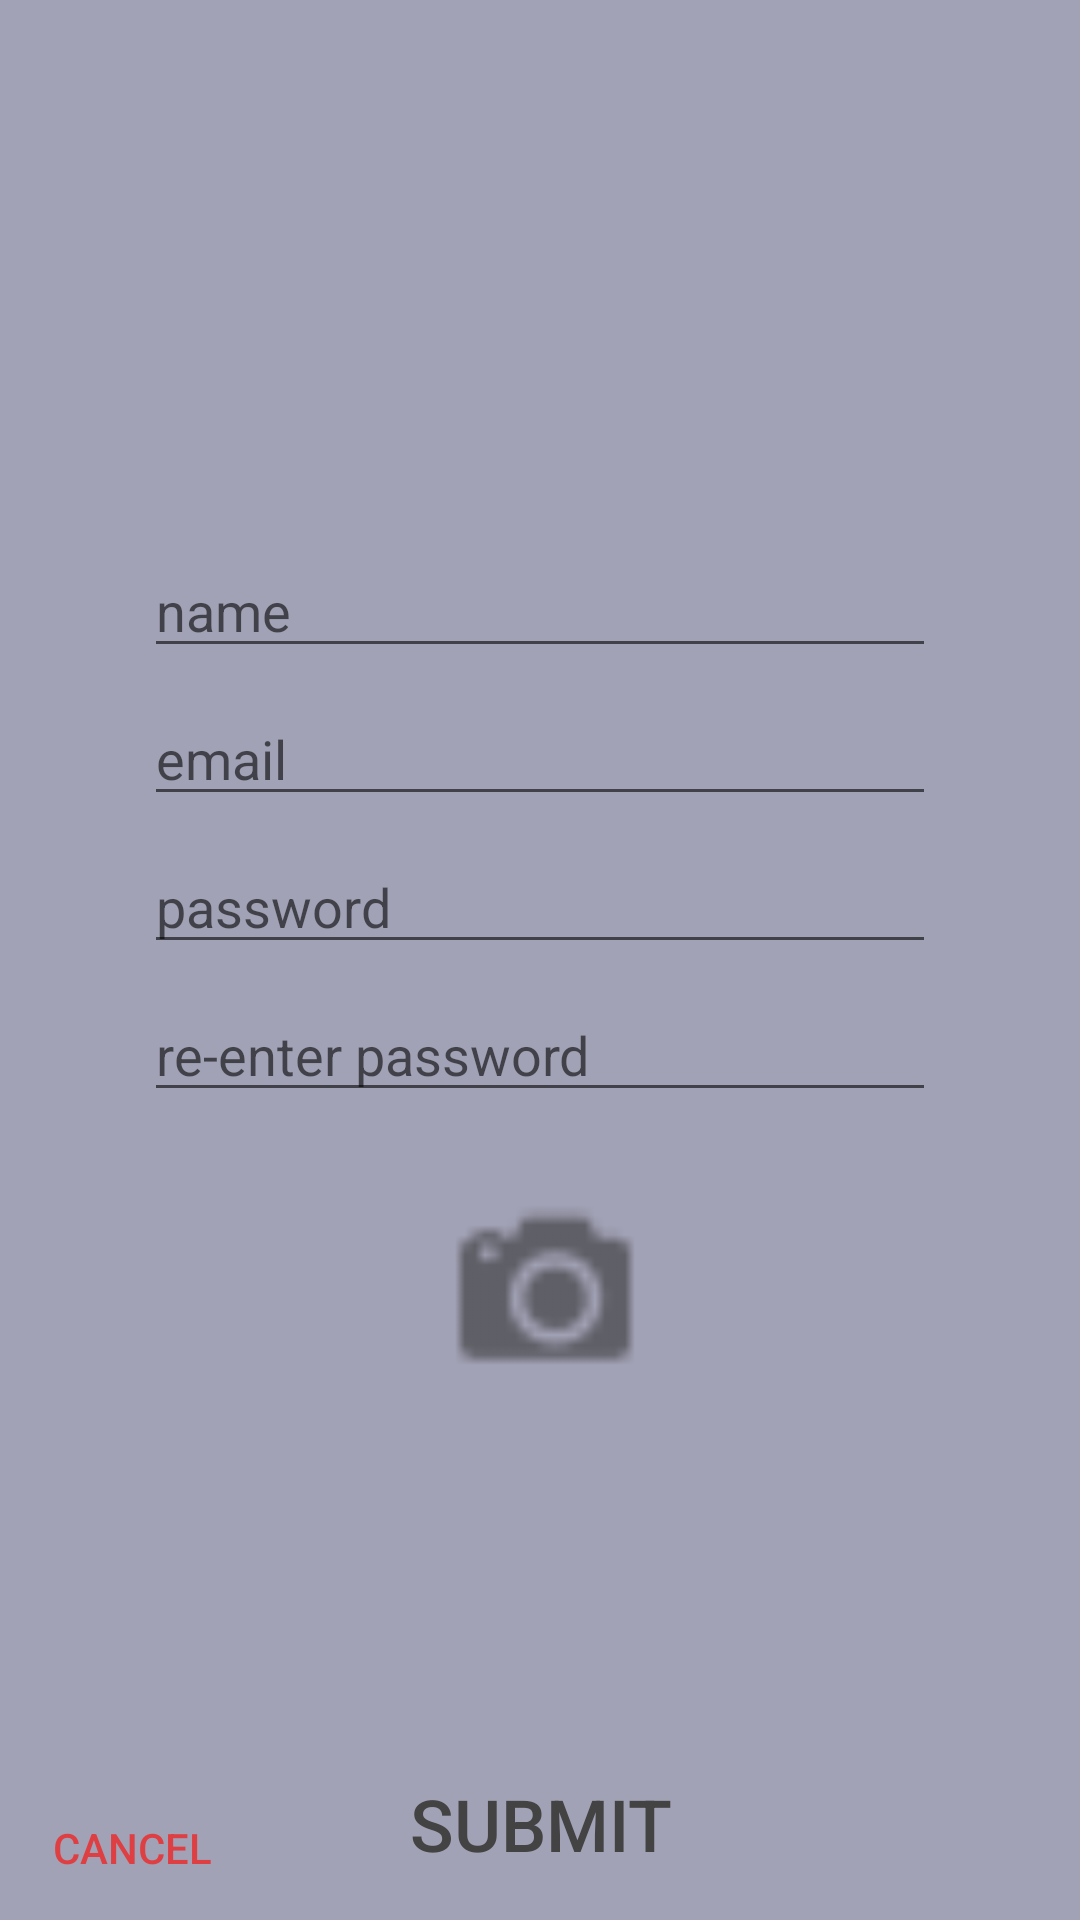

Icon click points for this 1080x1920 phone screenshot, format point (x, y):
camera: point (545, 1288)
